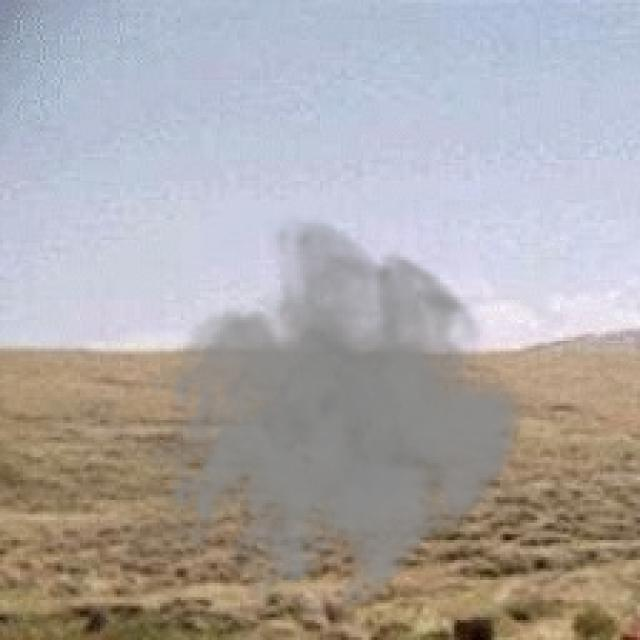smoke: (146, 211, 528, 626)
